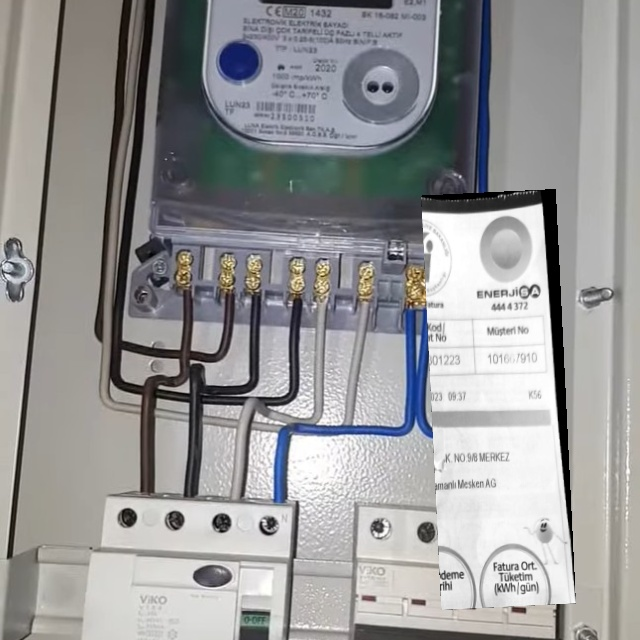electricity-bill: (420, 188, 576, 609)
